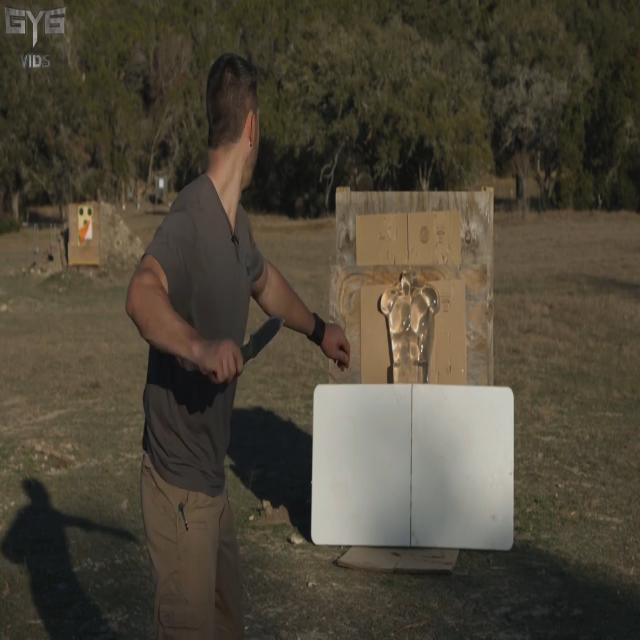knife: (241, 310, 289, 363)
